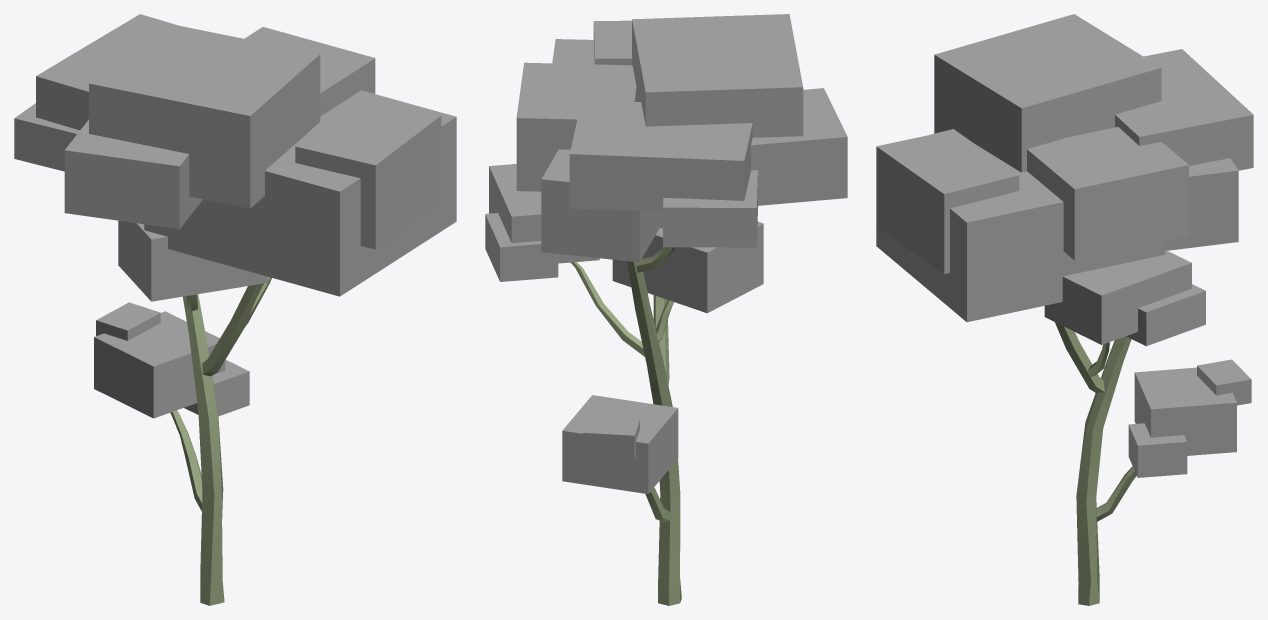
The model's file is SM_Tree_Jungle_C.fbx.
3 views of the same model, side by side, from view 1: azimuth 30°, elevation 25°; view 2: azimuth 150°, elevation 25°; view 3: azimuth 270°, elevation 25° (orthographic). The views are drawn at different scales.
Parts seen in each view (by area): view 1: SM_Tree_Jungle_C; view 2: SM_Tree_Jungle_C; view 3: SM_Tree_Jungle_C.
Boxes of the visible parts, x1,y1,x2,y2 form: SM_Tree_Jungle_C: (14, 14, 456, 605); SM_Tree_Jungle_C: (485, 14, 847, 605); SM_Tree_Jungle_C: (876, 14, 1253, 605).
Size of what is drawn, in the model's own units: 486 by 743 by 483.
